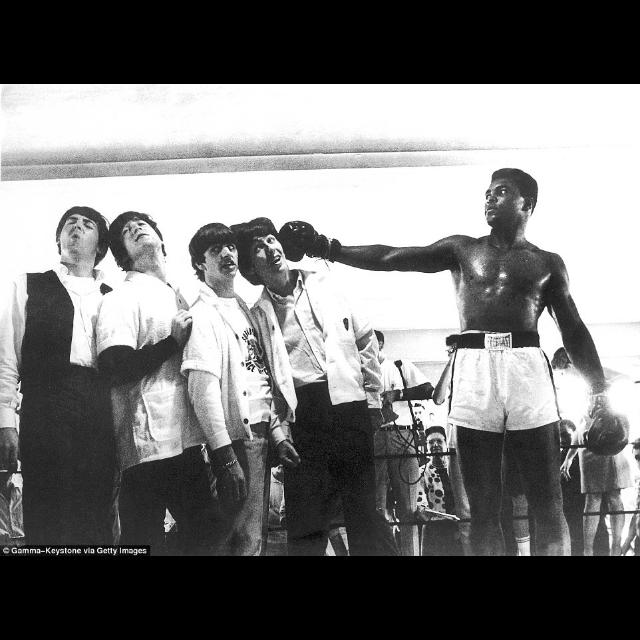head: (484, 173, 540, 230), (54, 207, 110, 261), (237, 223, 290, 280), (110, 210, 166, 260), (192, 224, 240, 280), (551, 346, 581, 384), (553, 419, 579, 456), (445, 333, 469, 362), (426, 430, 448, 460), (364, 330, 386, 354)
